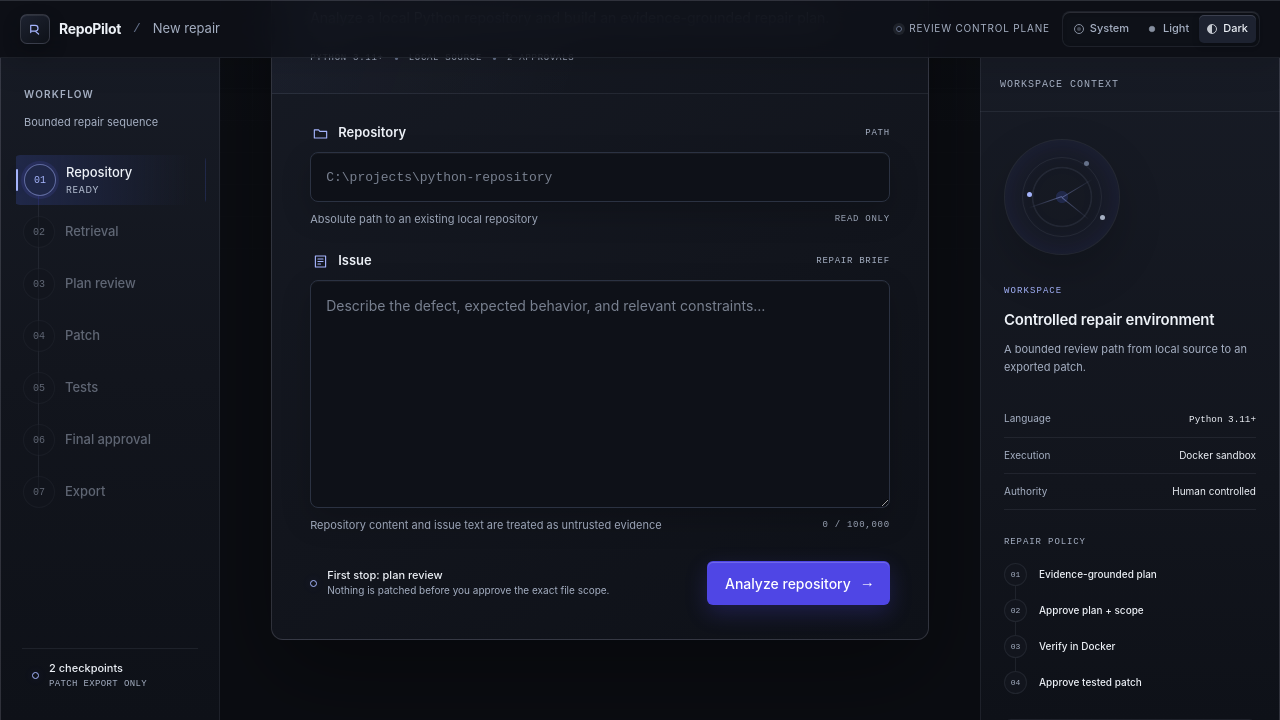
RepoPilot human review workspace › validates both required start fields
(page scrolled)
Step 1. Click the button "Analyze repository →" → (798, 583), box [707,561,890,605]
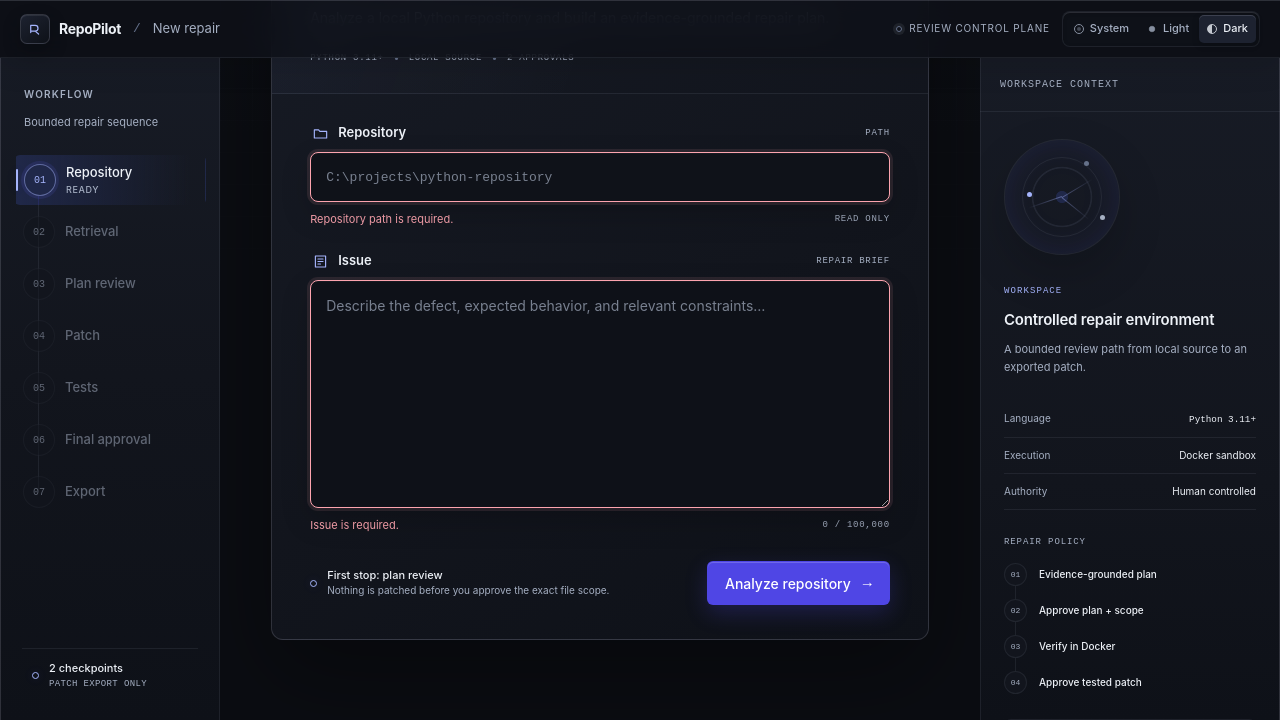
Now the number of messages is 2, box [310,211,453,228]; [310,517,399,534]
Now the text "Repository path is required." is shown, box [310,211,453,228]
Now the text "Issue is required." is shown, box [310,517,399,534]
Step 2. Type "C:\\work\\repo" into the field named "Repository path" → (600, 177), box [311,153,889,201]
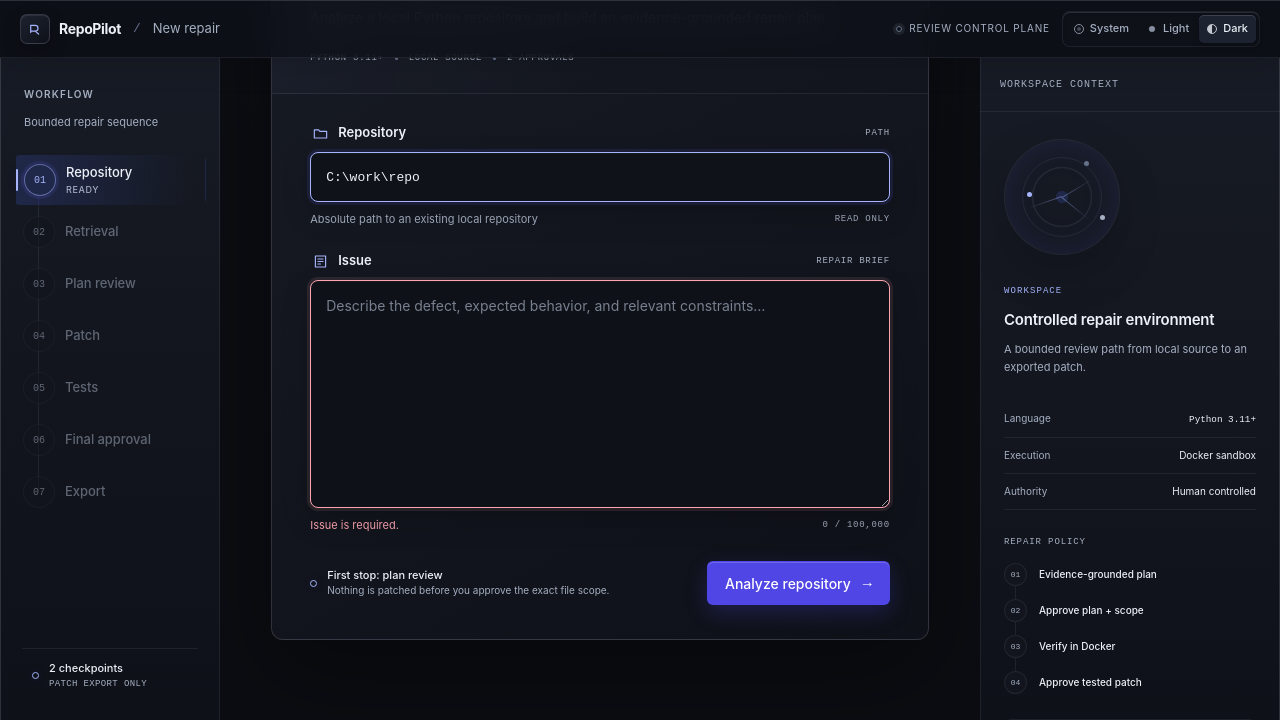
Now the text "Repository path is required." is gone
